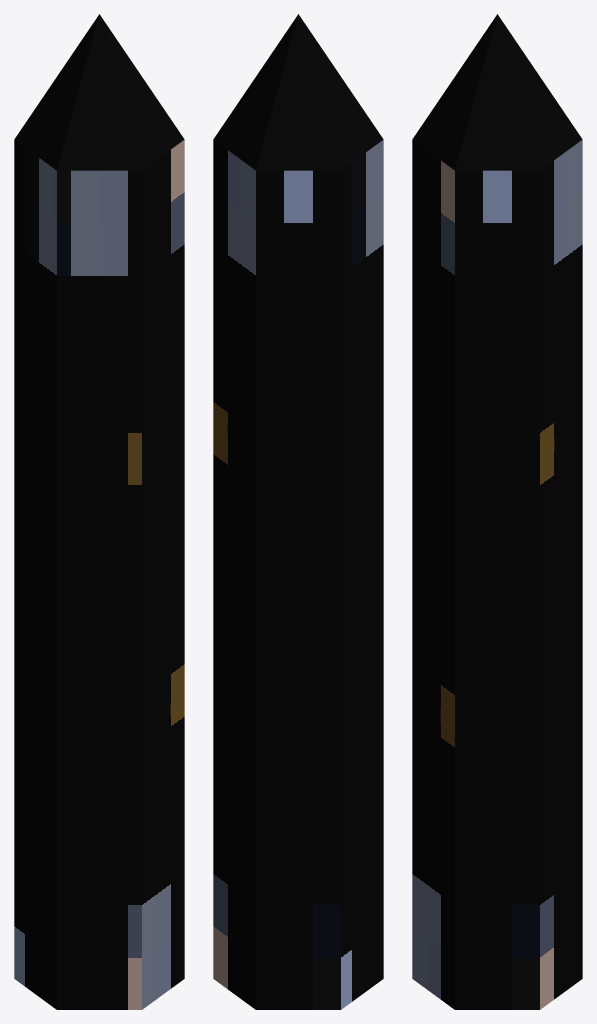
The model's file is WoodLogPalisadePillar.obj.
3 views of the same model, side by side, from view 1: azimuth 30°, elevation 25°; view 2: azimuth 150°, elevation 25°; view 3: azimuth 270°, elevation 25° (orthographic).
Visible parts, largest first — view 1: PalisadePillar; view 2: PalisadePillar; view 3: PalisadePillar.
Boxes of the visible parts, <box> form: PalisadePillar: <box>14,14,184,1009</box>; PalisadePillar: <box>213,14,383,1009</box>; PalisadePillar: <box>412,14,582,1009</box>.
Size of the model in its own units: 0.5196 by 3.75 by 0.6.
